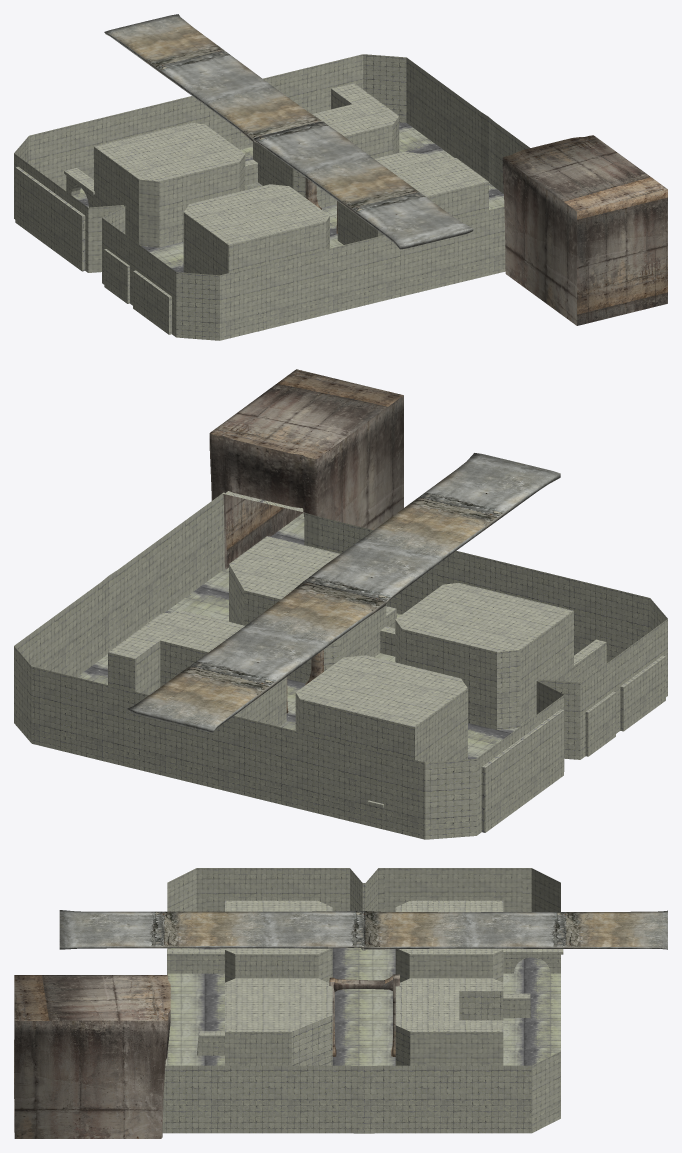
Rendered from SM_TheSamePlace_01_Block_00.fbx.
The picture shows the model from 3 angles, top to bottom: view 1: azimuth 30°, elevation 25°; view 2: azimuth 150°, elevation 25°; view 3: azimuth 270°, elevation 25°; orthographic projection. The views are drawn at different scales.
Parts seen in each view (by area): view 1: SM_TheSamePlace_01_Block_00; view 2: SM_TheSamePlace_01_Block_00; view 3: SM_TheSamePlace_01_Block_00.
Boxes of the visible parts, x1,y1,x2,y2 form: SM_TheSamePlace_01_Block_00: (14, 14, 667, 340); SM_TheSamePlace_01_Block_00: (14, 369, 667, 839); SM_TheSamePlace_01_Block_00: (14, 868, 667, 1138).
Size of the model in its own units: 4437 by 1205 by 5990.
